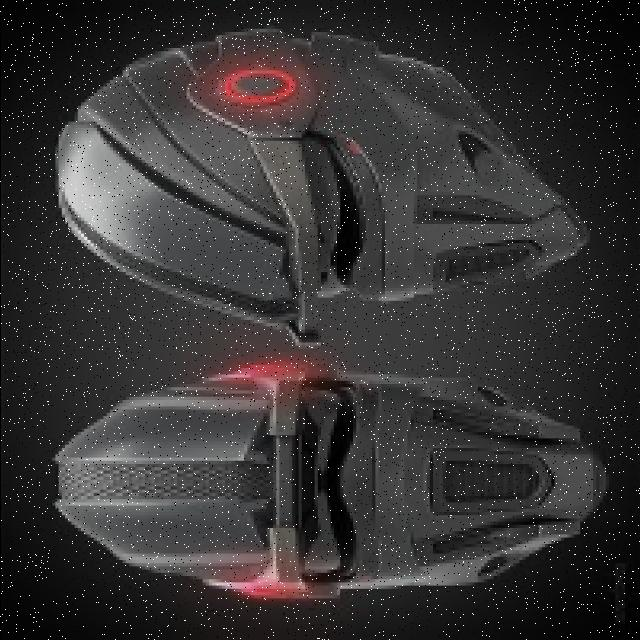Helmet: (58, 30, 586, 342), (55, 365, 604, 598)
